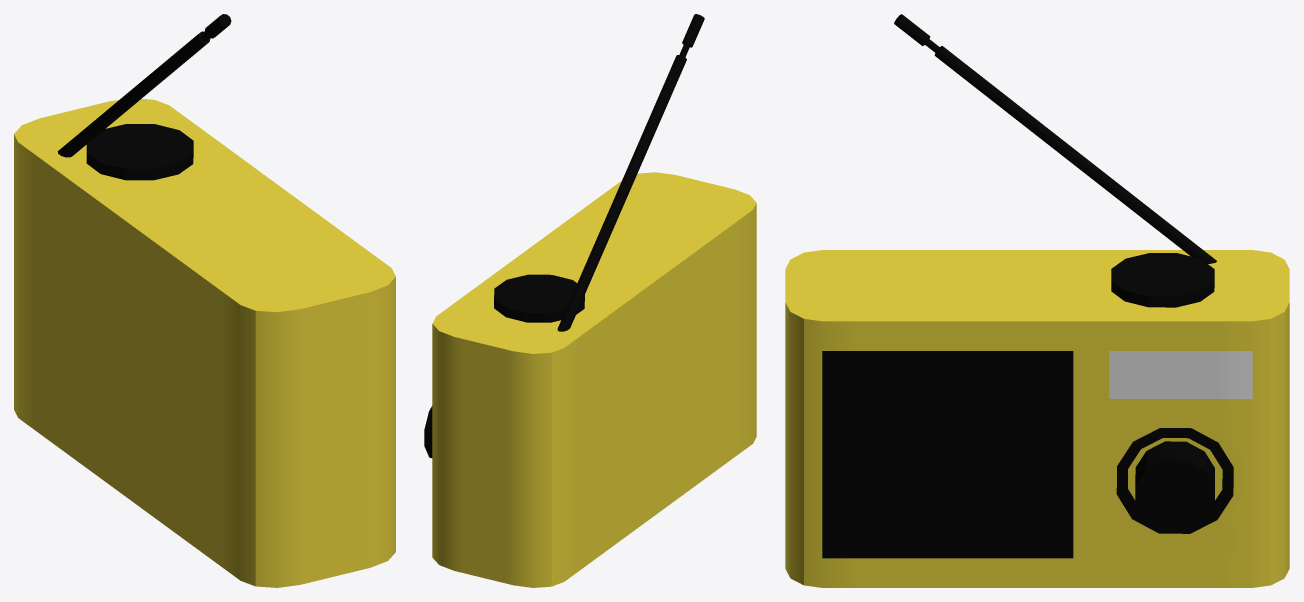
File: Radio.fbx
3 renders of one model, left to right at view 1: azimuth 30°, elevation 25°; view 2: azimuth 150°, elevation 25°; view 3: azimuth 270°, elevation 25°, orthographic. The views are drawn at different scales.
Parts seen in each view (by area): view 1: Radio1; view 2: Radio1; view 3: Radio1.
Boxes of the visible parts, x1,y1,x2,y2 form: Radio1: (14,14,395,587); Radio1: (424,14,756,587); Radio1: (785,14,1289,587).
Bounding box in the file's own units: 29.61 × 81.5 × 72.57.
